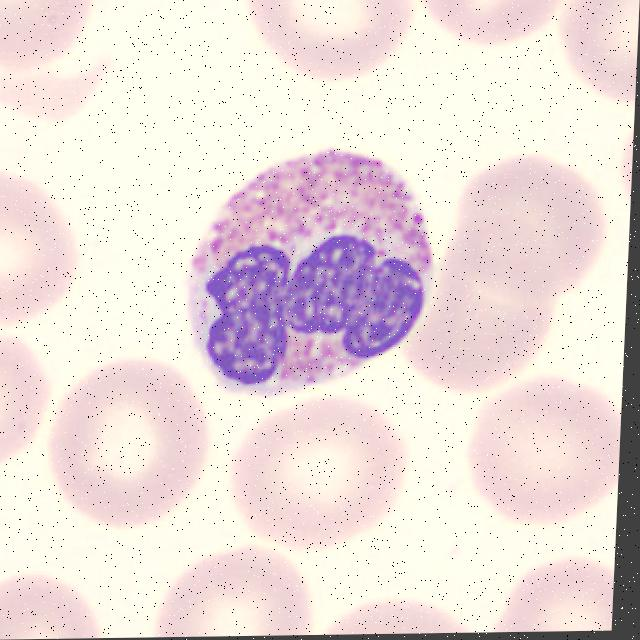eosinophil: (184, 154, 439, 402)
rbc: (202, 386, 409, 560), (458, 367, 623, 541), (445, 146, 612, 309), (390, 226, 550, 396), (48, 361, 207, 530), (243, 0, 422, 90), (148, 547, 321, 637), (0, 169, 90, 338), (0, 0, 98, 137), (537, 0, 640, 118), (489, 556, 615, 632), (321, 585, 485, 635), (0, 567, 111, 640), (419, 0, 565, 55), (0, 337, 55, 481), (617, 115, 634, 226)
